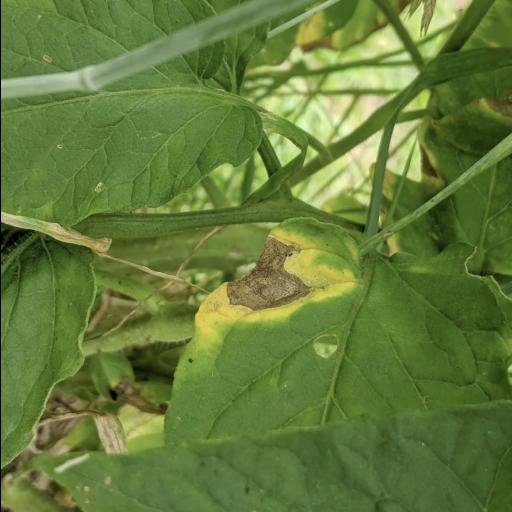Early Blight: (187, 214, 407, 362)
